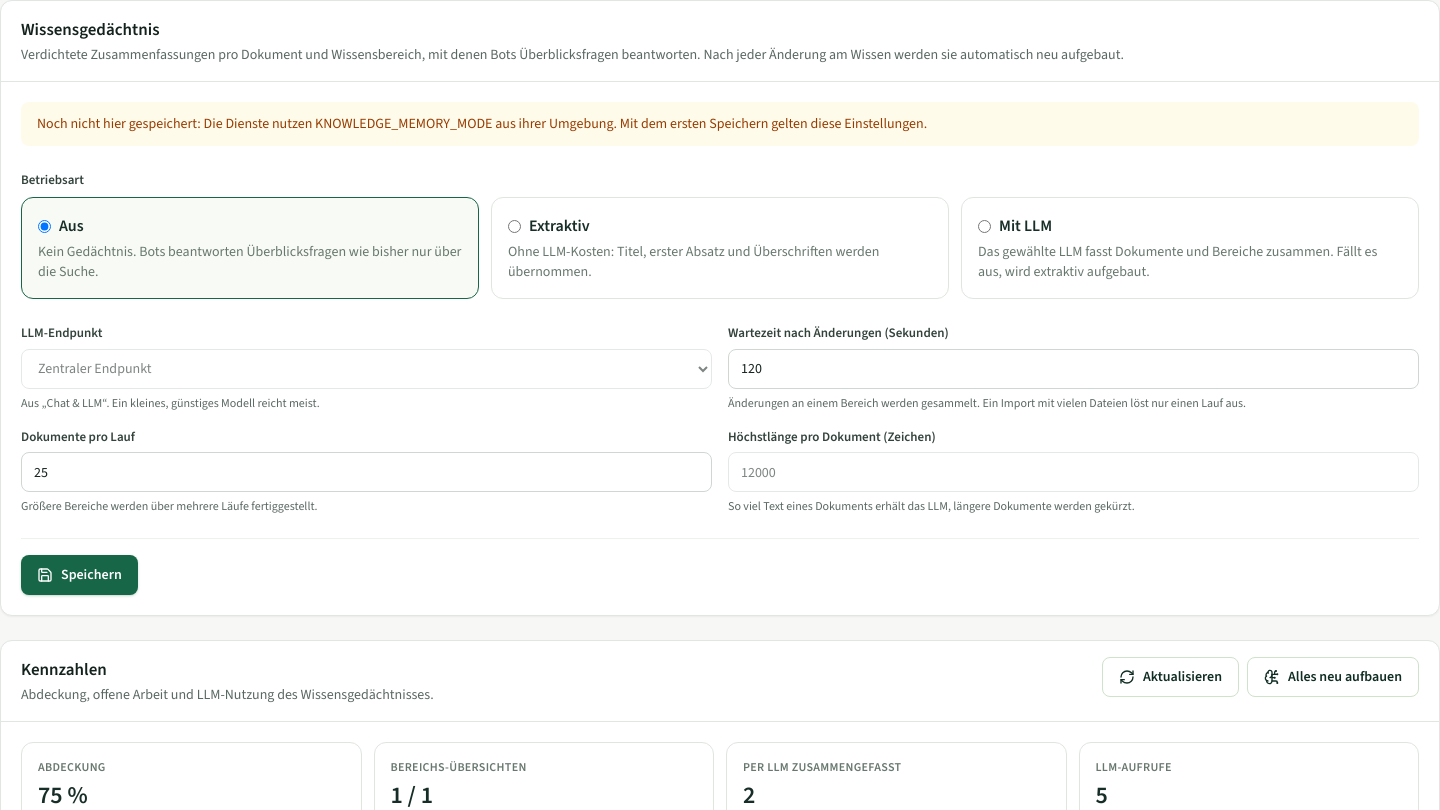
Test: shows metrics per knowledge space and starts a confirmed rebuild
Expected: the text "75 %" is shown, left=38, top=778, right=88, bottom=809
Click the button "Alles neu aufbauen".
click(1333, 677)  # box left=1247, top=657, right=1419, bottom=697
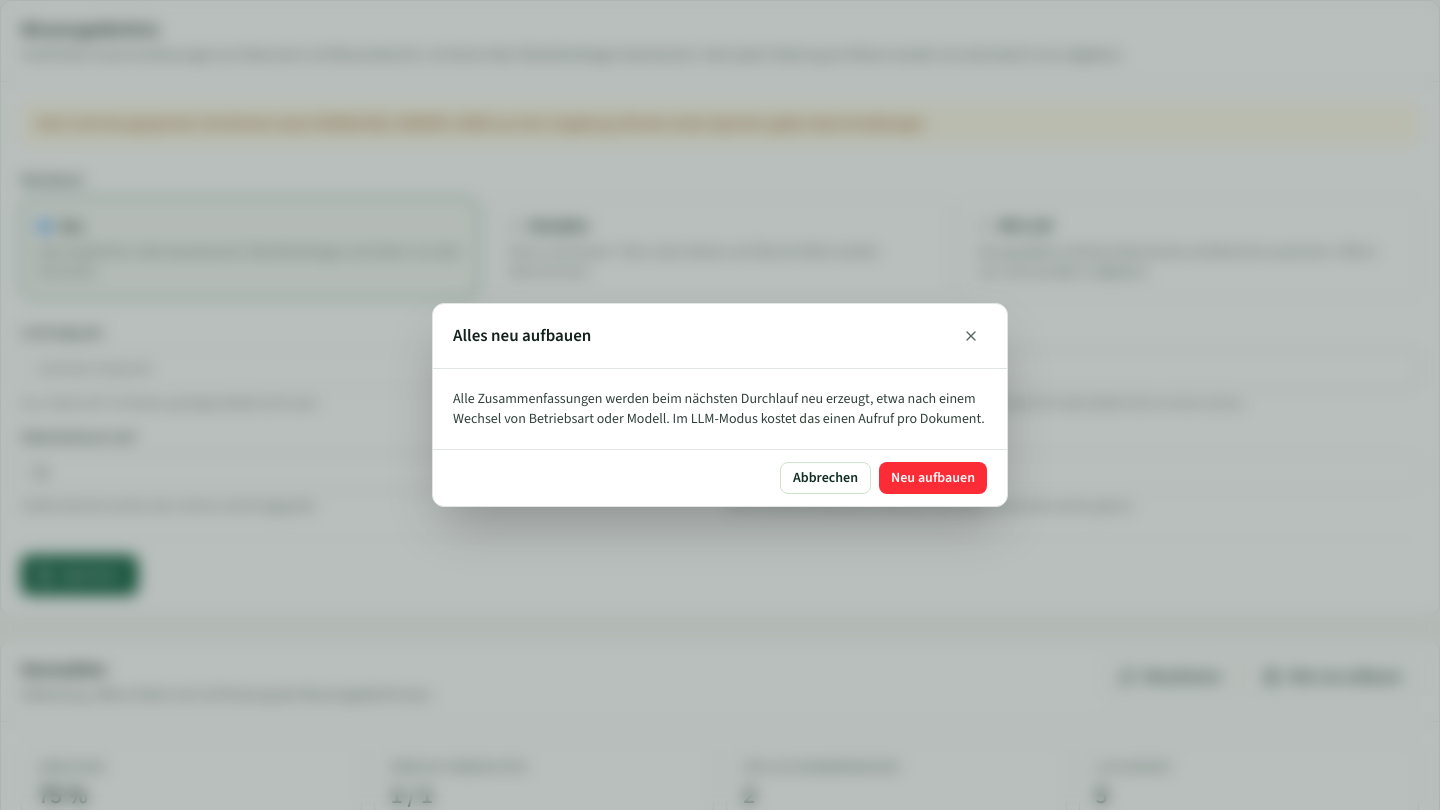
Click the button "Neu aufbauen".
click(933, 478)  # box left=879, top=462, right=987, bottom=494
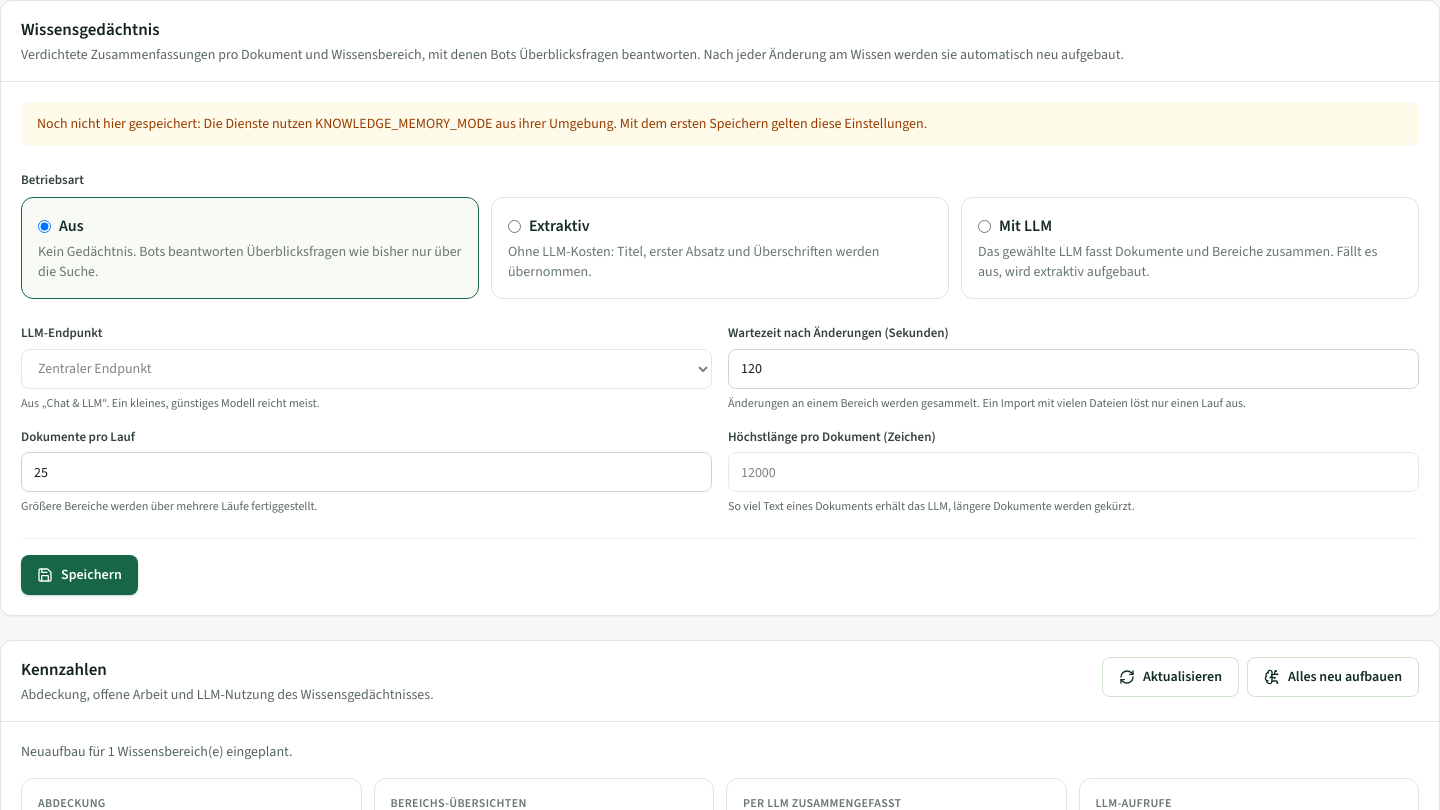
Expected: the text "Neuaufbau für 1 Wissensbereich(e) eingeplant." is shown, left=21, top=742, right=292, bottom=760
